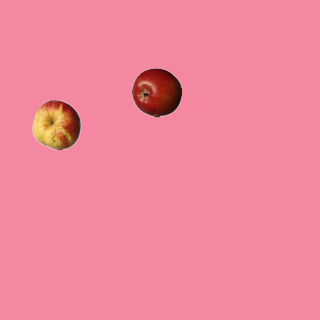Apple Braeburn: (131, 67, 181, 117)
Apple Red Yellow 1: (31, 99, 81, 149)
